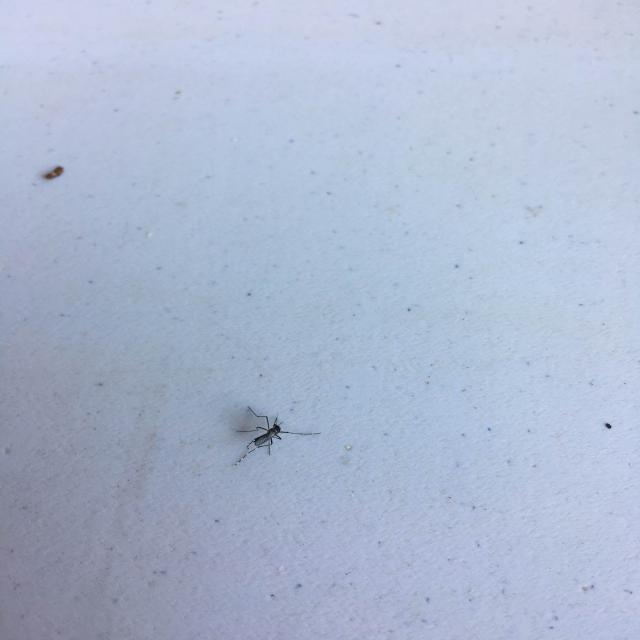albopictus: (224, 400, 326, 467)
